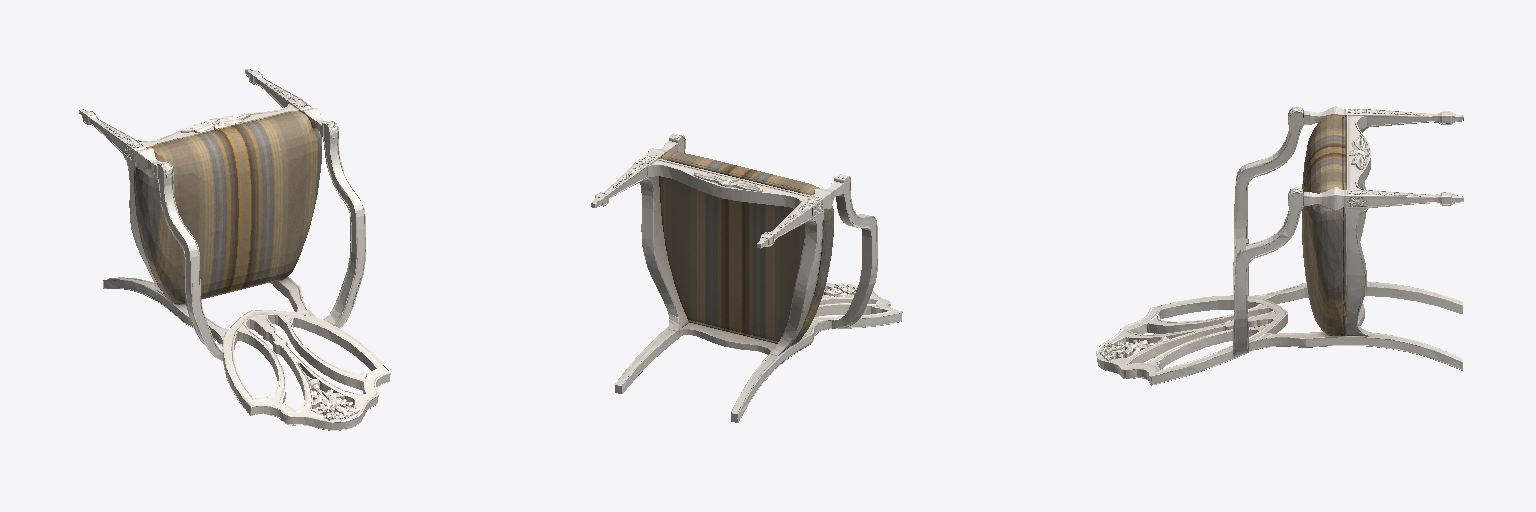
3 views of the same model, side by side, from view 1: azimuth 30°, elevation 25°; view 2: azimuth 150°, elevation 25°; view 3: azimuth 270°, elevation 25° (orthographic).
Bounding box in the file's own units: 0.5979 × 0.673 × 1.05.
1 materials, 1 textured.